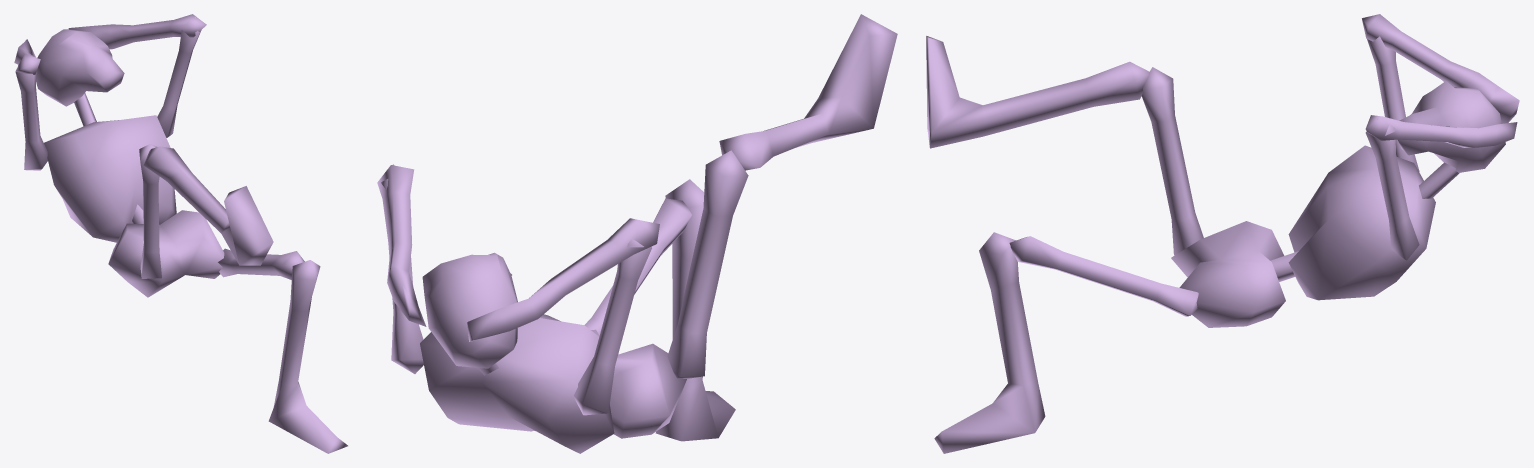
The picture shows the model from 3 angles, left to right: view 1: azimuth 30°, elevation 25°; view 2: azimuth 150°, elevation 25°; view 3: azimuth 270°, elevation 25°; orthographic projection. The views are drawn at different scales.
Parts seen in each view (by area): view 1: Object45; view 2: Object45; view 3: Object45.
Part boxes in pixels (x1=…): Object45: x1=14, y1=14, x2=347, y2=453; Object45: x1=377, y1=14, x2=897, y2=453; Object45: x1=926, y1=14, x2=1519, y2=453.
Size of the model in its own units: 6482 by 9603 by 14518.
